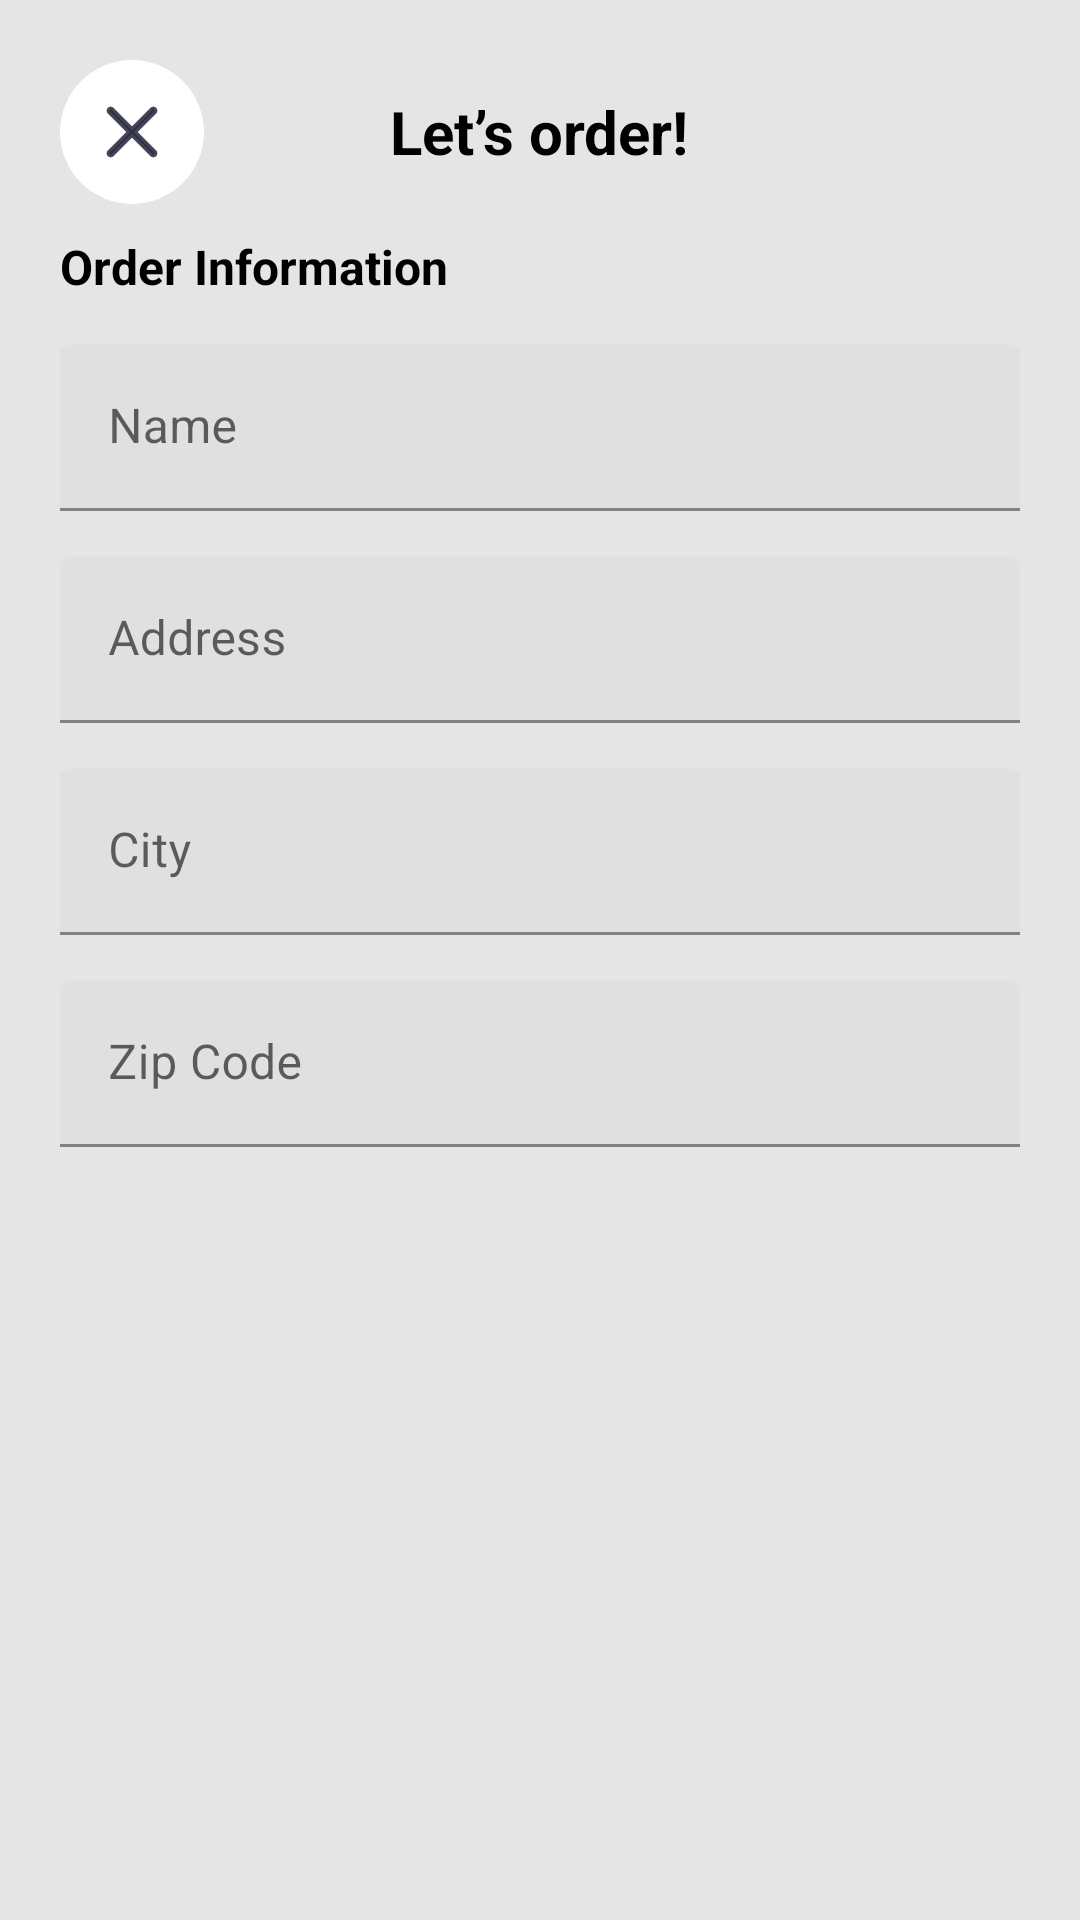

Icon click points for this 1080 × 1920 phone screenshot, format (x,y):
cross: (132,132)
